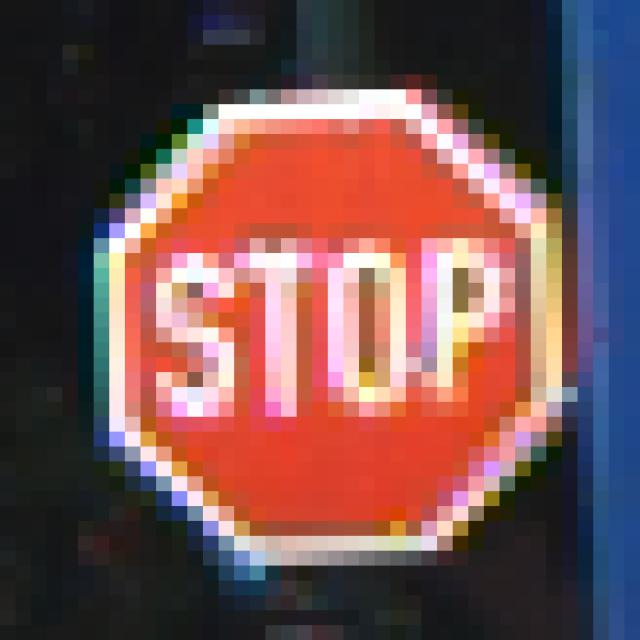STOP: (79, 90, 563, 567)
